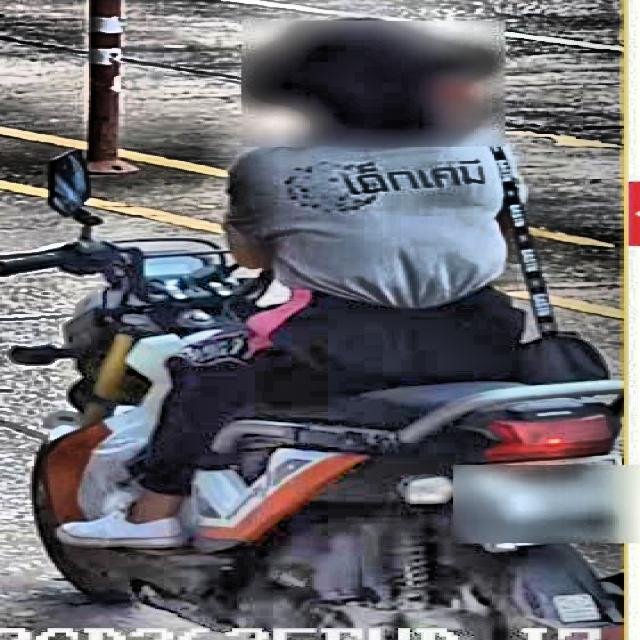motorcycle: (11, 148, 632, 638)
